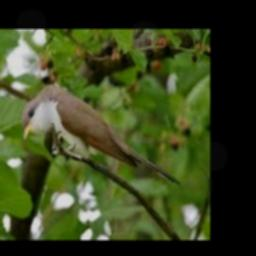Cuckoo: (23, 83, 181, 185)
